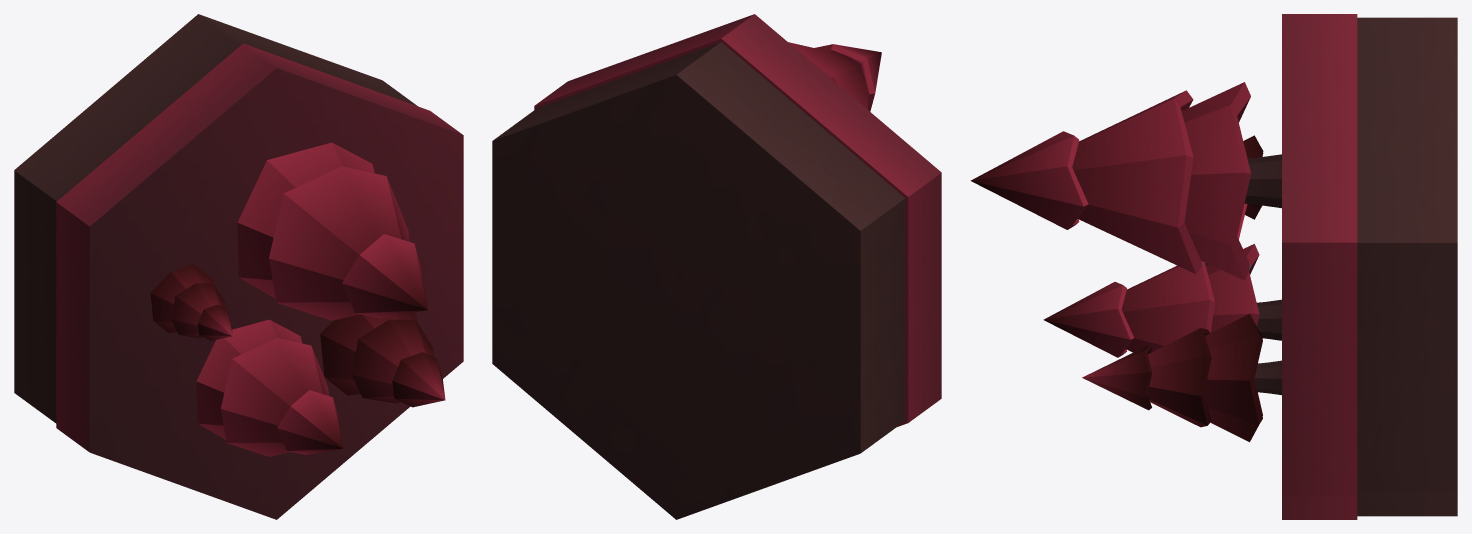
Rendered from NADELWALD_S_BURN.fbx.
The picture shows the model from 3 angles, left to right: view 1: azimuth 30°, elevation 25°; view 2: azimuth 150°, elevation 25°; view 3: azimuth 270°, elevation 25°; orthographic projection. The views are drawn at different scales.
Visible parts, largest first — view 1: NADELWALD_S_BURN; view 2: NADELWALD_S_BURN; view 3: NADELWALD_S_BURN.
Boxes of the visible parts, x1,y1,x2,y2 form: NADELWALD_S_BURN: [14, 14, 463, 519]; NADELWALD_S_BURN: [492, 14, 941, 519]; NADELWALD_S_BURN: [970, 14, 1457, 519].
Size of the model in its own units: 172 by 199 by 174.
